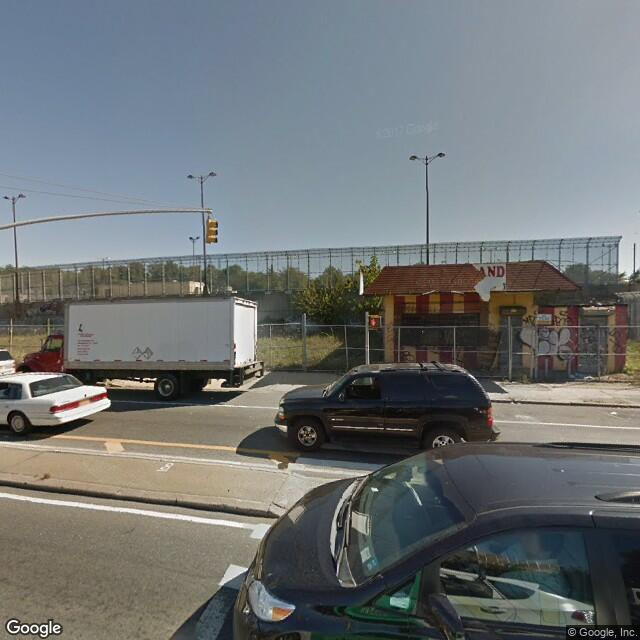litter: (511, 400, 524, 406), (608, 409, 619, 415)
